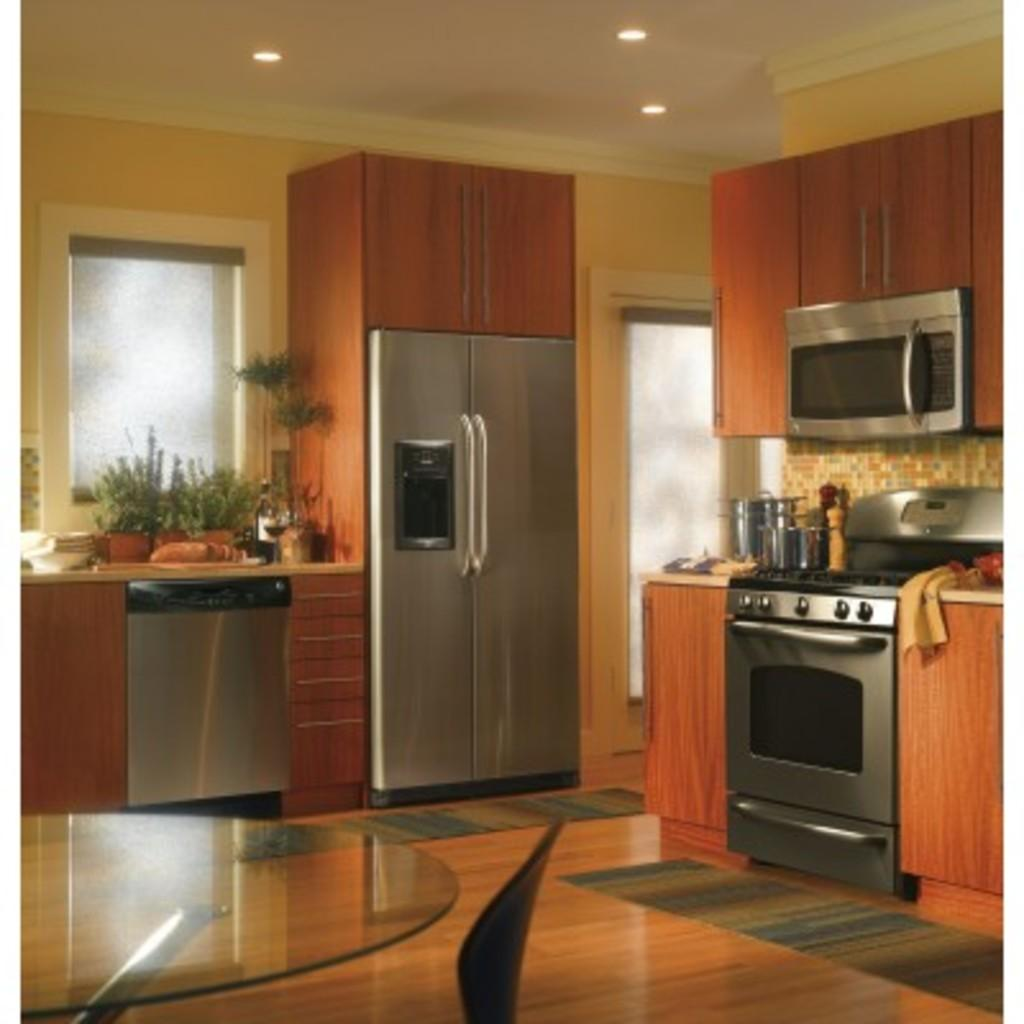cabinet_door: (719, 188, 792, 441), (369, 164, 472, 328), (654, 579, 720, 811), (872, 141, 966, 290), (480, 182, 574, 323), (804, 156, 870, 302), (291, 697, 363, 774), (294, 652, 370, 696), (294, 573, 366, 613), (295, 620, 363, 656)
handle: (734, 789, 876, 859), (735, 618, 877, 668), (460, 412, 482, 584), (458, 184, 476, 316), (297, 660, 365, 694), (476, 415, 490, 576), (710, 288, 724, 442), (646, 590, 660, 744), (306, 704, 364, 737), (301, 579, 363, 609), (902, 323, 920, 421), (302, 624, 362, 652), (481, 198, 492, 320), (878, 204, 892, 298), (852, 209, 866, 294)
